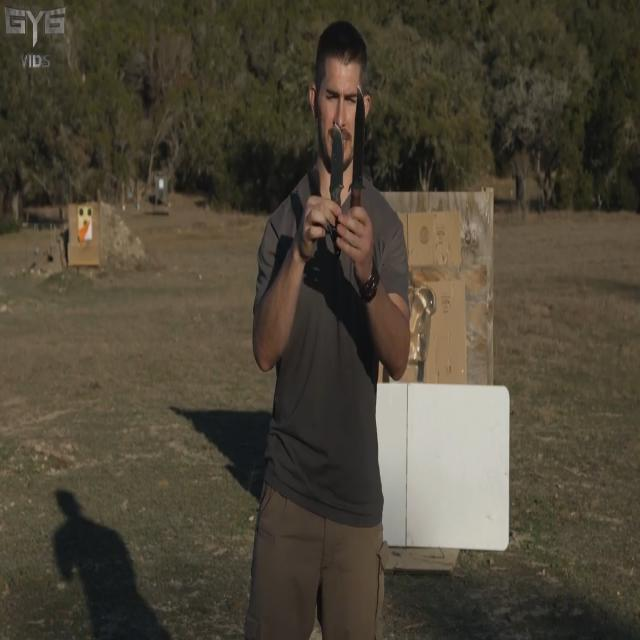knife: (350, 86, 370, 209), (328, 118, 347, 207)
